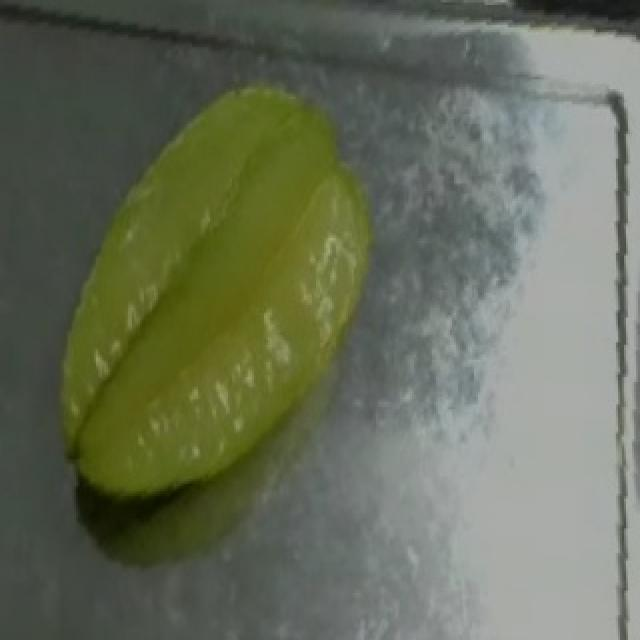fruit: (68, 47, 408, 494)
